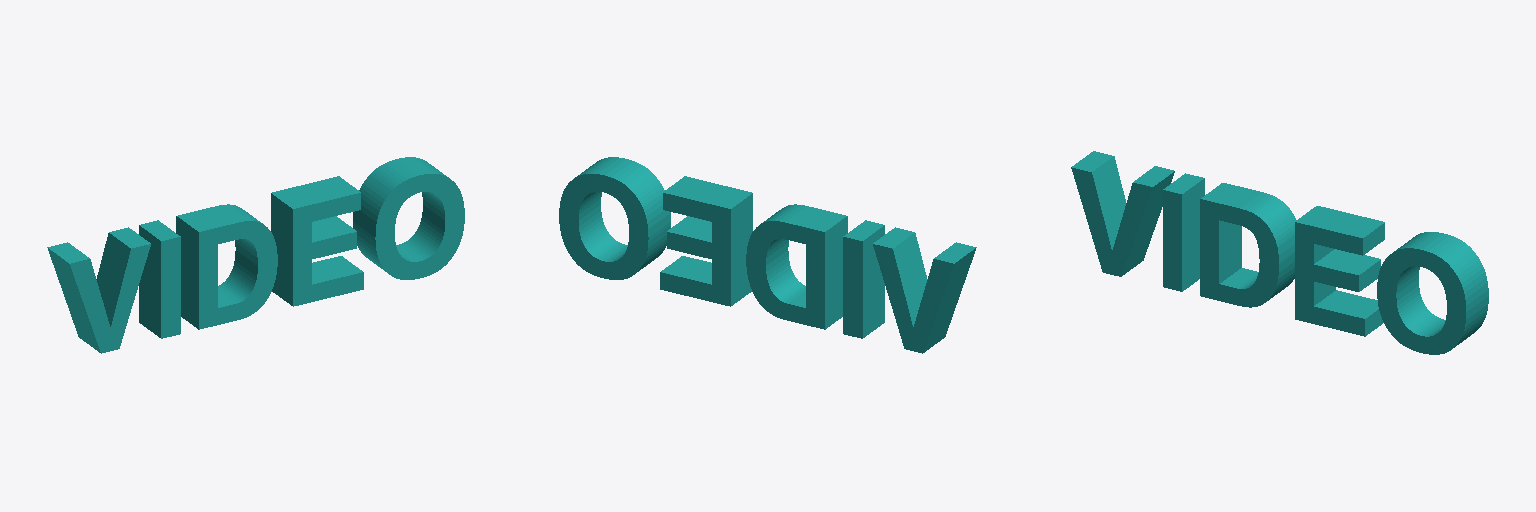
3 renders of one model, left to right at view 1: azimuth 30°, elevation 25°; view 2: azimuth 150°, elevation 25°; view 3: azimuth 330°, elevation 25°, orthographic.
Parts seen in each view (by area): view 1: Extrude; view 2: Extrude; view 3: Extrude.
Boxes of the visible parts, x1,y1,x2,y2 form: Extrude: [47, 157, 464, 353]; Extrude: [559, 157, 976, 353]; Extrude: [1071, 151, 1488, 354].
Bounding box in the file's own units: 1 × 0.2497 × 0.0984.